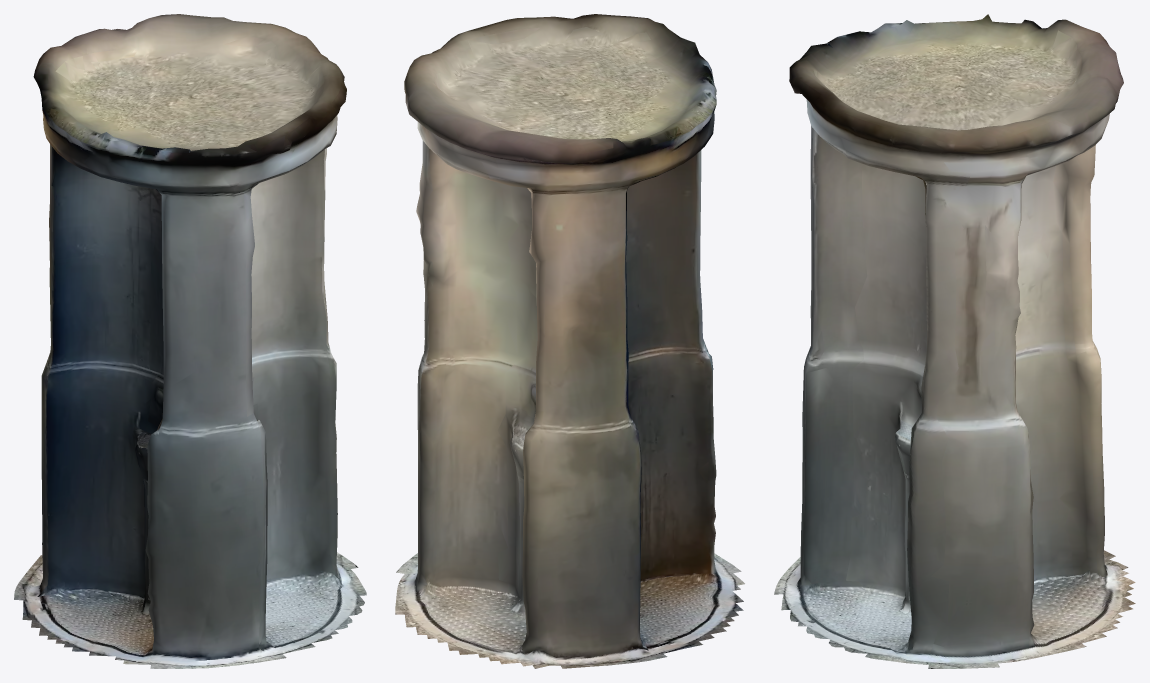
File: S025_EmergingUrinol.glb
3 views of the same model, side by side, from view 1: azimuth 30°, elevation 25°; view 2: azimuth 150°, elevation 25°; view 3: azimuth 270°, elevation 25° (orthographic). The views are drawn at different scales.
Visible parts, largest first — view 1: S025_RETOPO; view 2: S025_RETOPO; view 3: S025_RETOPO.
Boxes of the visible parts, <box> form: S025_RETOPO: <box>14,14,366,668</box>; S025_RETOPO: <box>395,14,744,668</box>; S025_RETOPO: <box>774,14,1135,668</box>.
Size of the model in its own units: 1.4 by 2.26 by 1.39.
1 material, 1 textured.
